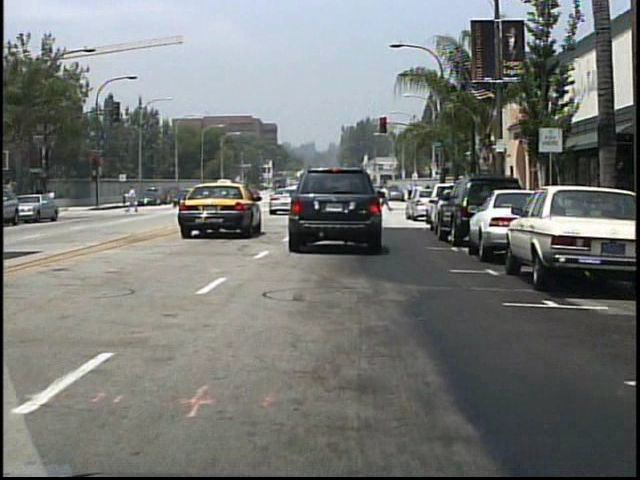person: (377, 184, 394, 214), (125, 187, 142, 215)
